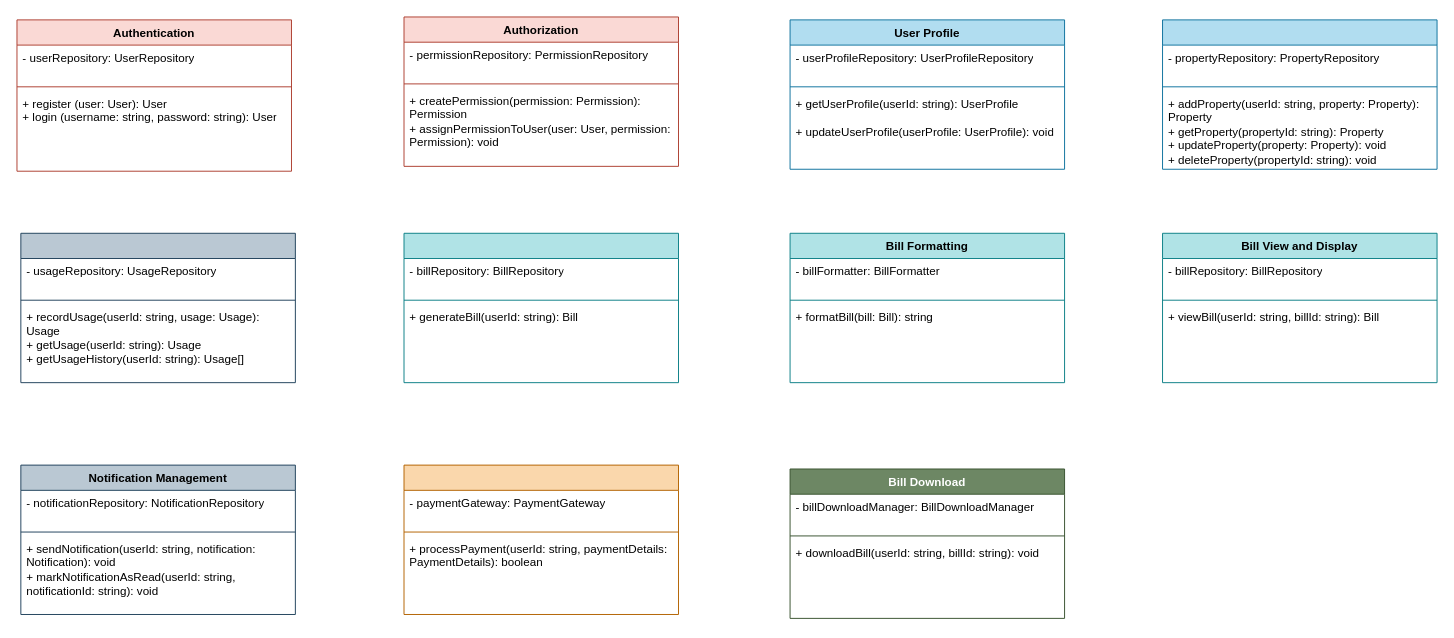
Some shapes in this 1454 by 638 pixel diagram are drawn without their labels. Each missing label, with the box of its shape:
Bill Generation: (403, 232, 679, 383)
Electricity Usage: (20, 232, 295, 383)
Payment Processing: (403, 464, 679, 614)
Property Management: (1162, 19, 1437, 169)
